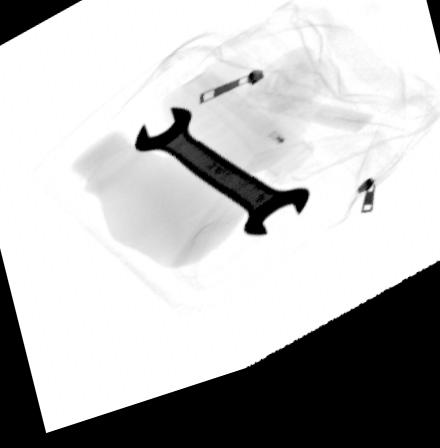Wrench: (133, 116, 311, 252)
